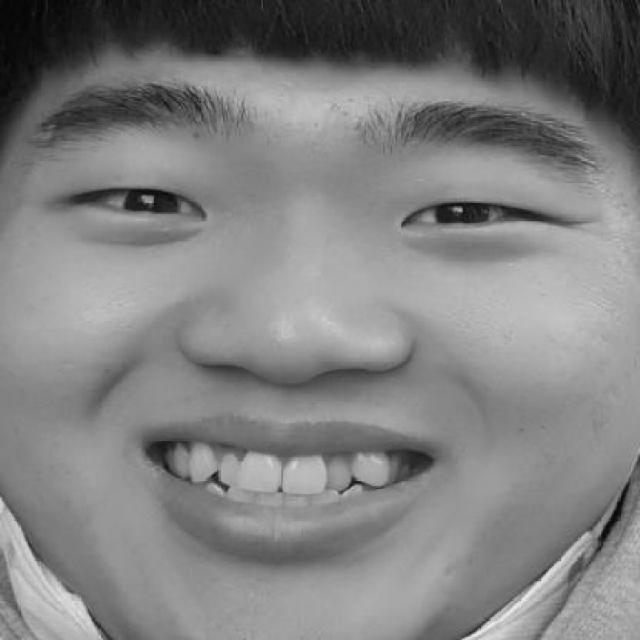happy: (19, 101, 601, 565)
